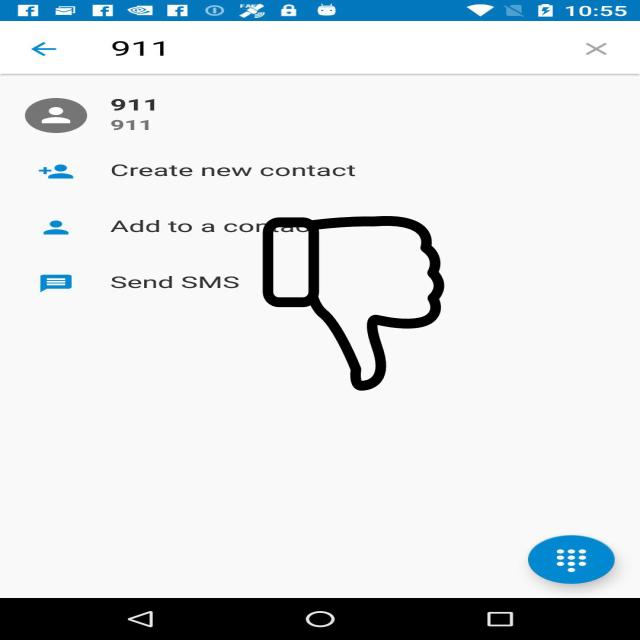obstruction: (260, 216, 447, 391)
